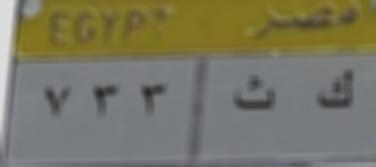3: (139, 74, 170, 125), (89, 77, 122, 122)
7: (38, 80, 74, 122)
kaaf: (315, 60, 358, 120)
thaa: (226, 74, 278, 116)
